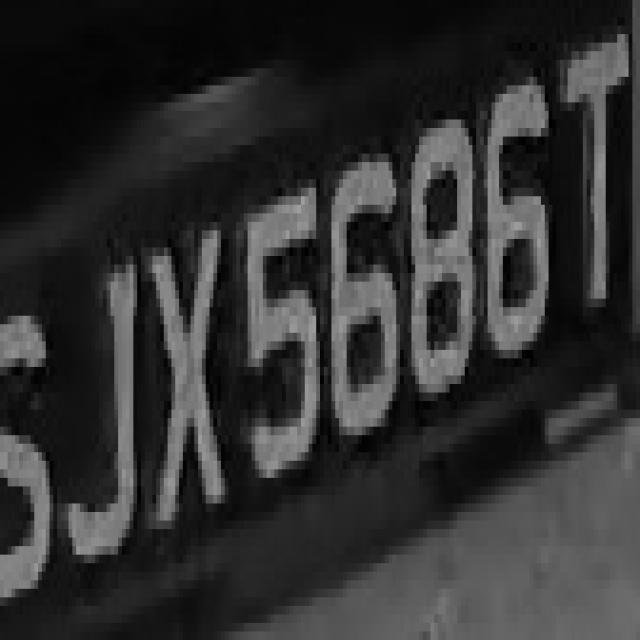5: (236, 179, 324, 478)
6: (320, 102, 415, 470), (469, 68, 556, 384)
8: (400, 68, 480, 435)
J: (64, 205, 148, 563)
S: (11, 264, 65, 614)
T: (556, 43, 632, 324)
X: (145, 179, 232, 538)
